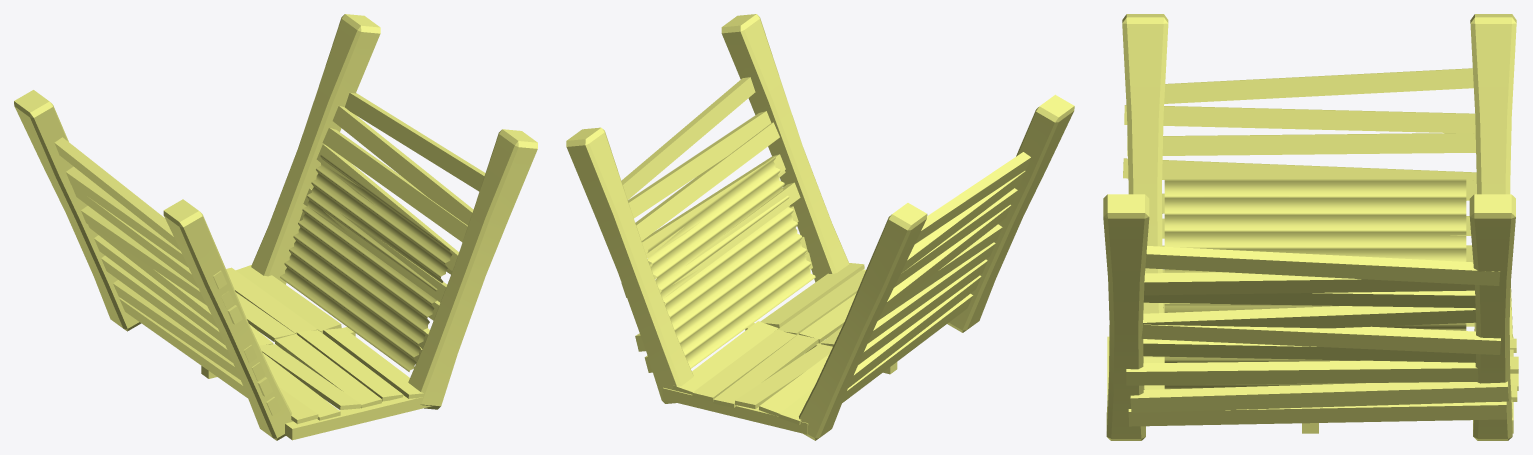
Rendered from Trench01v2.fbx.
3 renders of one model, left to right at view 1: azimuth 30°, elevation 25°; view 2: azimuth 150°, elevation 25°; view 3: azimuth 270°, elevation 25°, orthographic. The views are drawn at different scales.
Visible parts, largest first — view 1: Trench01; view 2: Trench01; view 3: Trench01.
Boxes of the visible parts, x1,y1,x2,y2 form: Trench01: (14, 14, 537, 440); Trench01: (566, 14, 1074, 440); Trench01: (1103, 14, 1518, 440).
Size of the model in its own units: 293 by 200 by 258.
